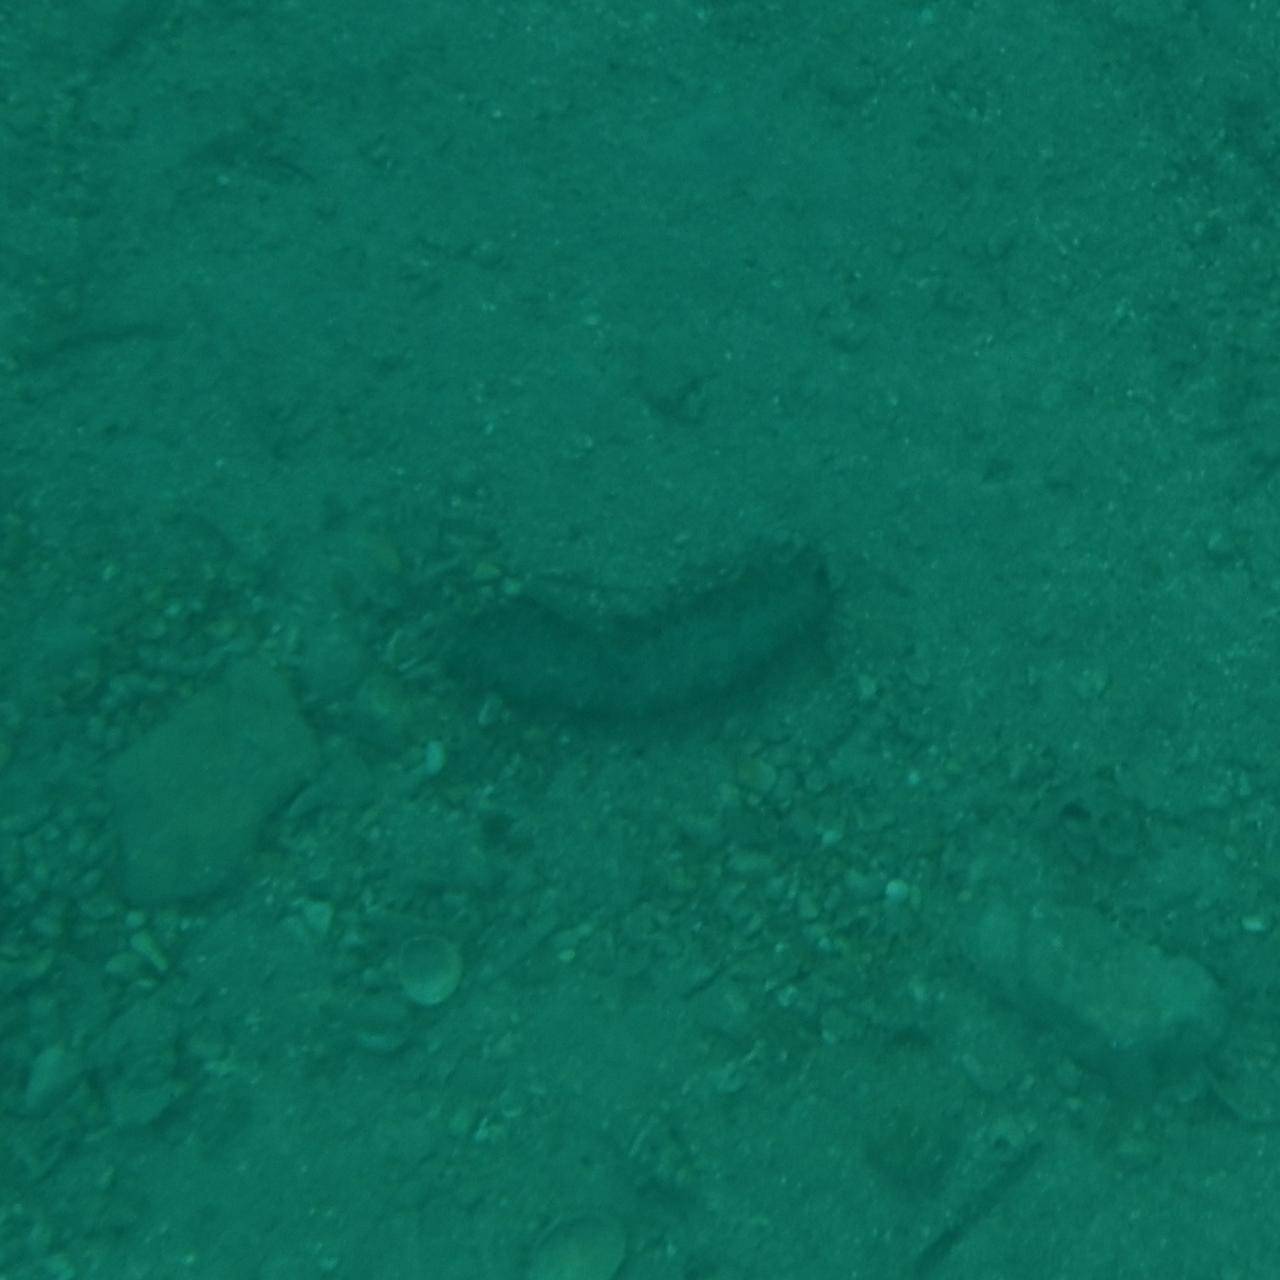Holothuria tubulosa: (408, 546, 872, 734)
